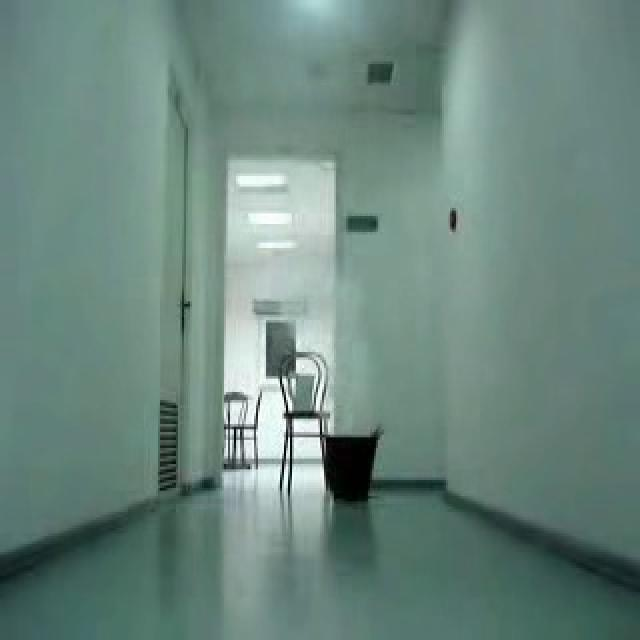Smoke: (308, 258, 408, 410)
